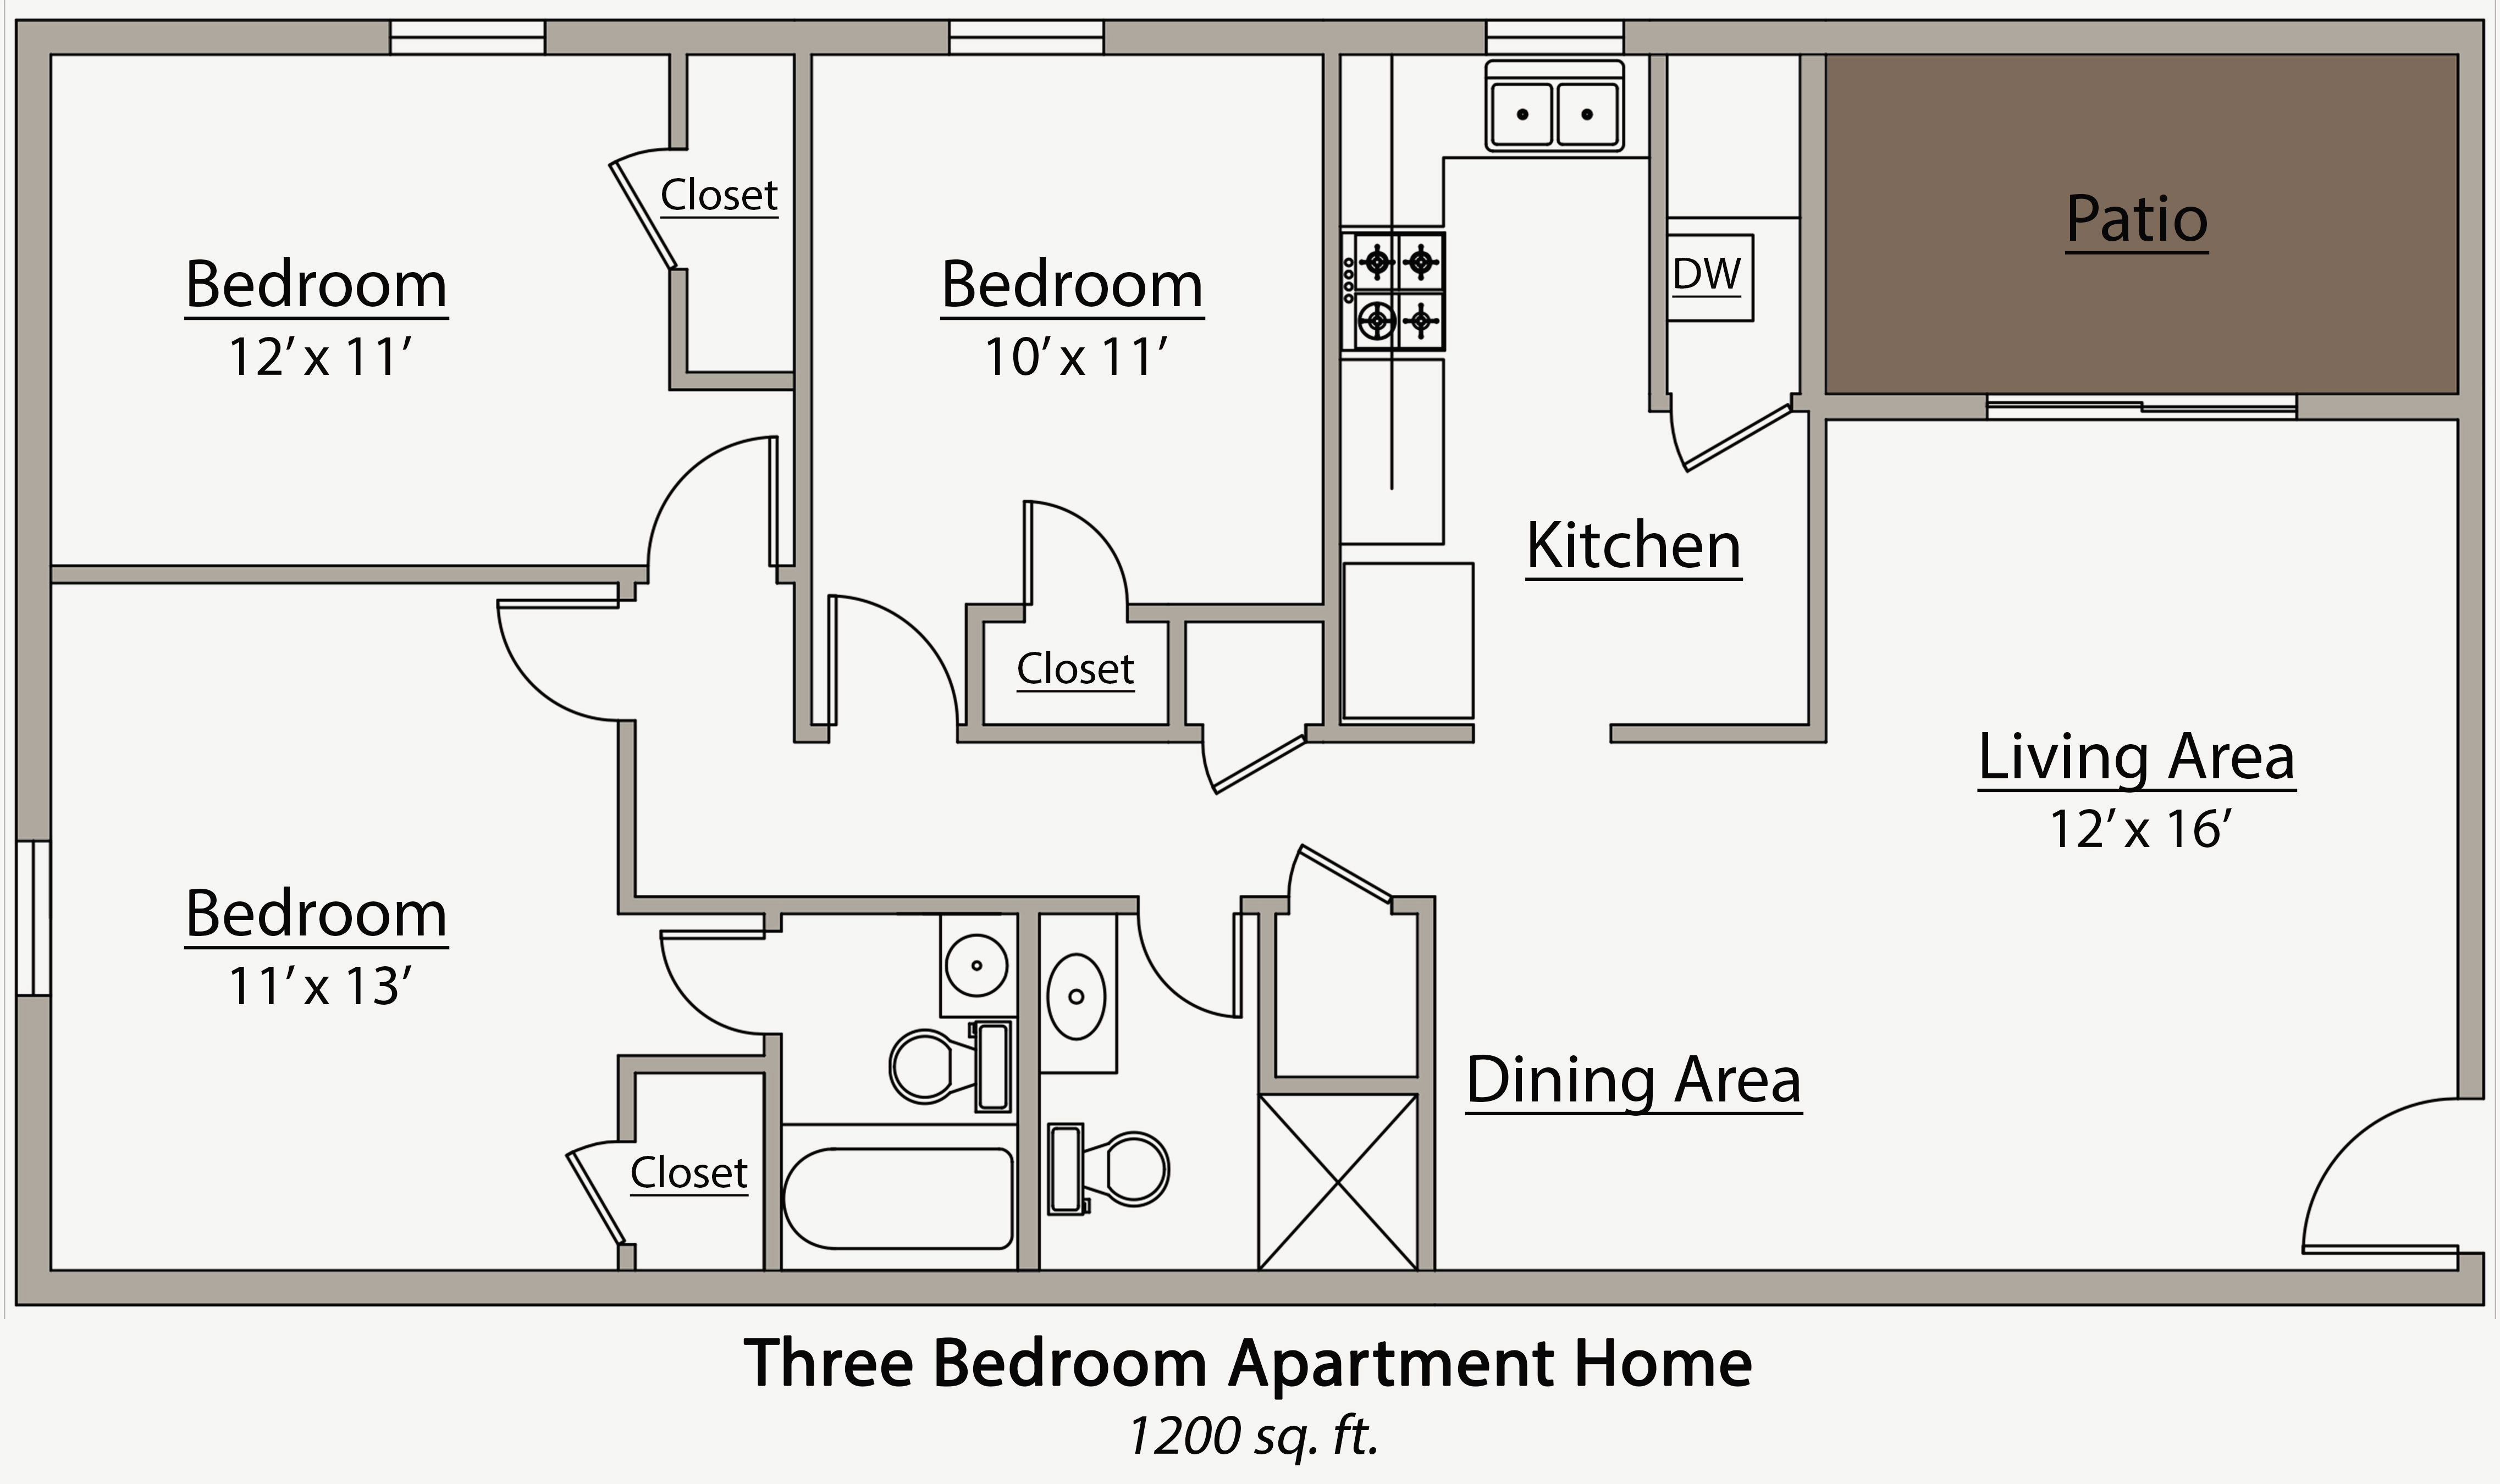window: (1979, 390, 2304, 428), (12, 837, 57, 1002), (1473, 14, 1636, 57), (387, 18, 551, 58), (945, 18, 1108, 58)
